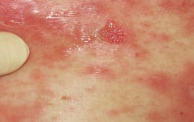SJS-TEN: (0, 0, 194, 122), (107, 54, 194, 122)
